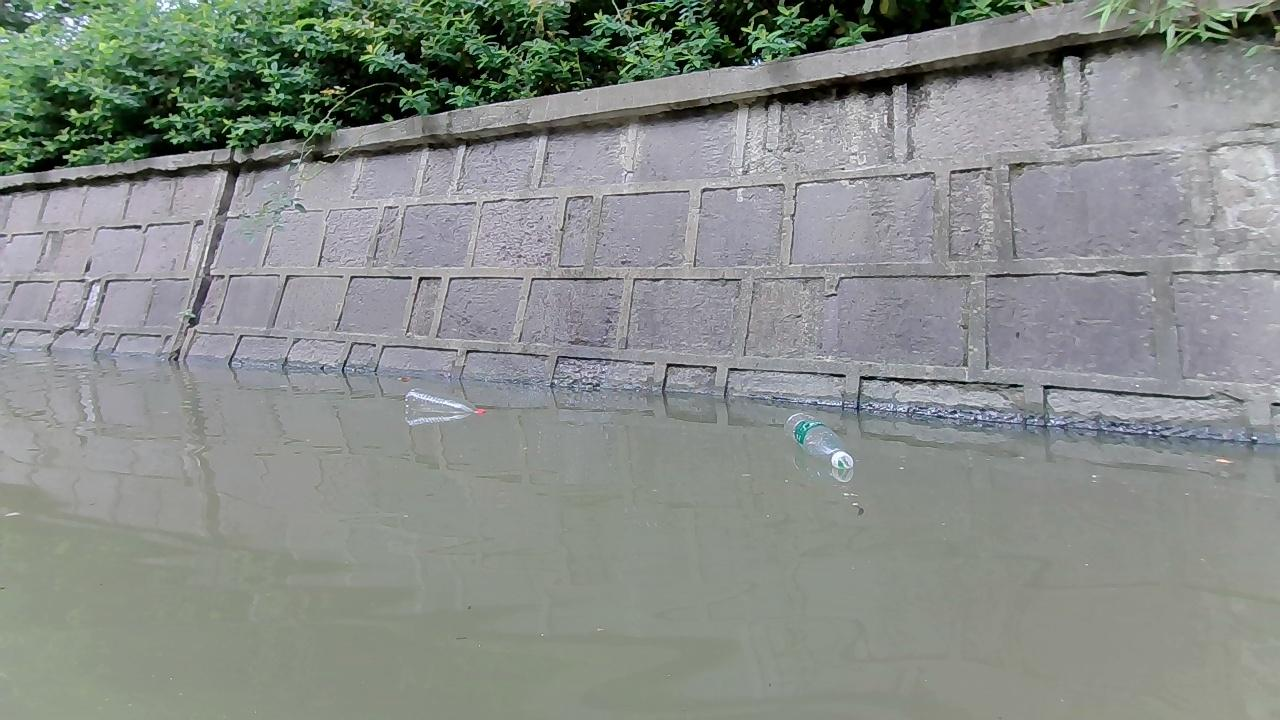bottle: (783, 411, 855, 468), (402, 386, 486, 411)
